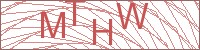H: (91, 18, 114, 46)
M: (40, 11, 66, 39)
T: (63, 1, 86, 27)
W: (115, 2, 150, 30)
